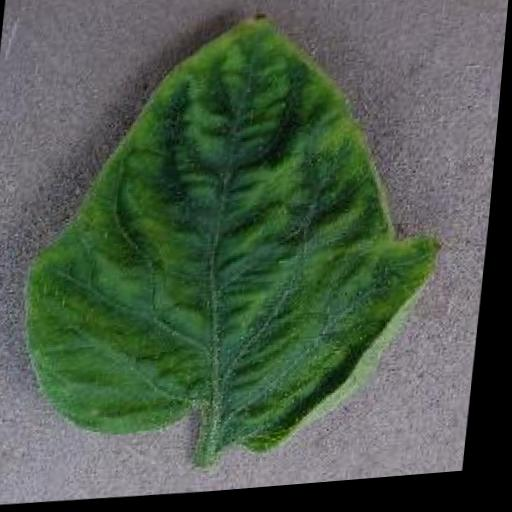Yellow Leaf Curl Virus: (12, 0, 465, 478)
